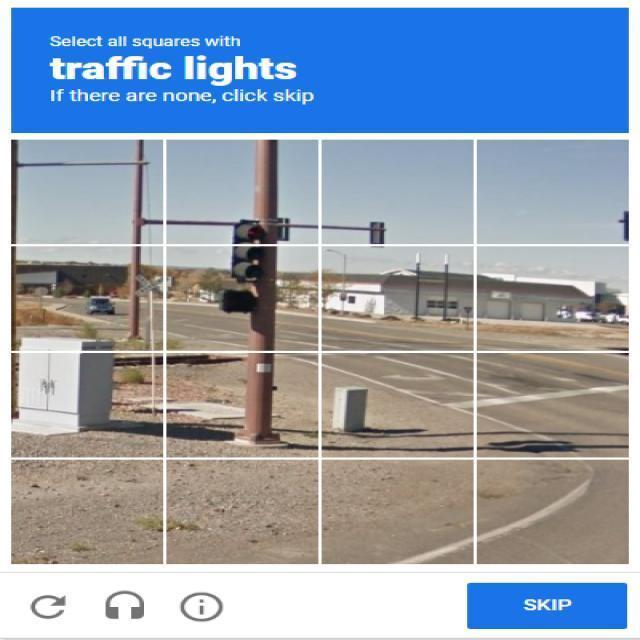traffic-lights: (230, 217, 267, 290), (366, 221, 388, 250)
